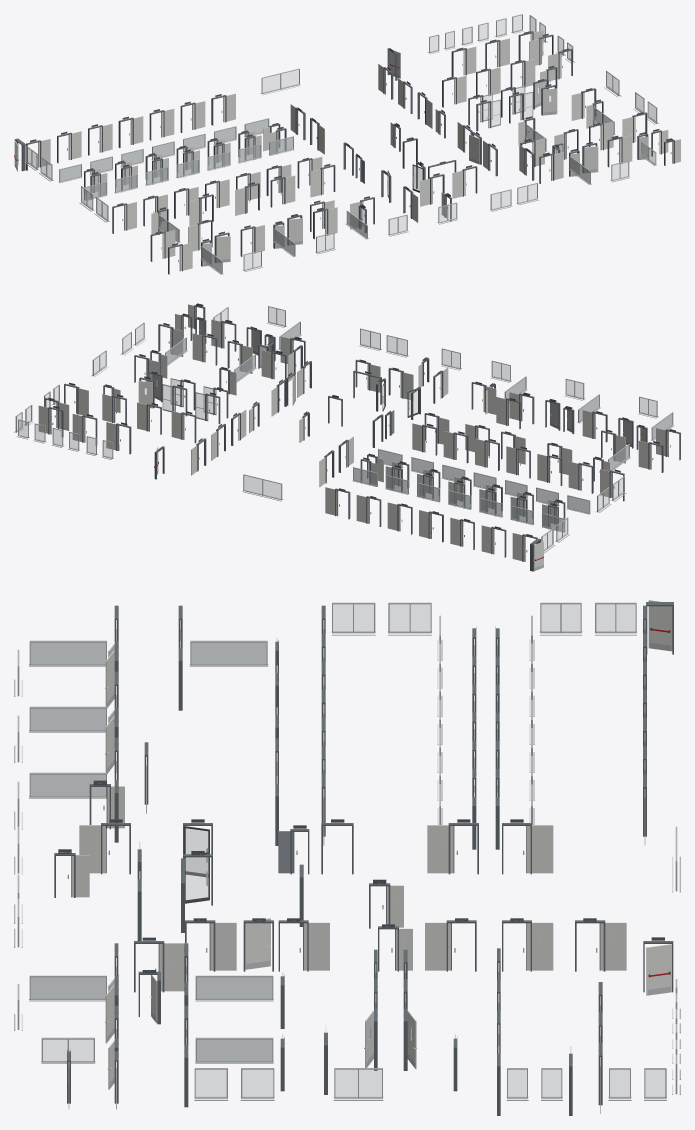
The model's file is 27_n2_puertas.glb.
3 views of the same model, one above another, from view 1: azimuth 30°, elevation 25°; view 2: azimuth 150°, elevation 25°; view 3: azimuth 270°, elevation 25° (orthographic). The views are drawn at different scales.
Visible parts, largest first — view 1: Ventana N2 · 127, Puerta N2 · 48, Puerta N2 · 74, Puerta N2 · 16, Puerta N2 · 12, Puerta N2 · 51, Puerta N2 · 49, Puerta N2 · 20, Puerta N2 · 35, Puerta N2 · 65, Puerta N2 · 82, Puerta N2 · 29 (+24 smaller); view 2: Ventana N2 · 127, Puerta N2 · 05, Puerta N2 · 32, Puerta N2 · 21, Puerta N2 · 38, Puerta N2 · 25, Puerta N2 · 77, Puerta N2 · 24, Puerta N2 · 20, Puerta N2 · 09, Puerta N2 · 69, Puerta N2 · 82 (+25 smaller); view 3: Ventana N2 · 117, Ventana N2 · 118, Ventana N2 · 113, Ventana N2 · 114, Ventana N2 · 115, Ventana N2 · 119, Ventana N2 · 116, Ventana N2 · 131, Puerta N2 · 90, Puerta N2 · 91, Puerta N2 · 85, Puerta N2 · 56 (+23 smaller).
Boxes of the visible parts, x1,y1,x2,y2 form: Ventana N2 · 127: (260, 68, 300, 95); Puerta N2 · 48: (270, 175, 295, 207); Puerta N2 · 74: (541, 85, 557, 115); Puerta N2 · 16: (149, 108, 174, 140); Puerta N2 · 12: (118, 116, 143, 147); Puerta N2 · 51: (452, 166, 477, 198); Puerta N2 · 49: (310, 164, 335, 197); Puerta N2 · 20: (180, 101, 205, 132); Puerta N2 · 35: (582, 143, 598, 172); Puerta N2 · 65: (607, 135, 632, 167); Puerta N2 · 82: (451, 46, 476, 77); Puerta N2 · 29: (214, 232, 230, 262); Ventana N2 · 127: (242, 474, 283, 501); Puerta N2 · 05: (568, 461, 593, 493); Puerta N2 · 32: (638, 440, 663, 472); Puerta N2 · 21: (443, 431, 468, 463); Puerta N2 · 38: (192, 333, 217, 365); Puerta N2 · 25: (412, 423, 437, 455); Puerta N2 · 77: (171, 411, 196, 443); Puerta N2 · 24: (325, 487, 350, 519); Puerta N2 · 20: (356, 495, 381, 526); Puerta N2 · 09: (537, 454, 562, 485); Puerta N2 · 69: (195, 392, 220, 424); Puerta N2 · 82: (106, 422, 131, 454); Ventana N2 · 117: (195, 975, 273, 1001); Ventana N2 · 118: (195, 1037, 273, 1063); Ventana N2 · 113: (189, 640, 268, 666); Ventana N2 · 114: (29, 640, 106, 666); Ventana N2 · 115: (29, 706, 106, 732); Ventana N2 · 119: (29, 975, 106, 1001); Ventana N2 · 116: (29, 772, 106, 798); Ventana N2 · 131: (333, 1068, 383, 1100); Puerta N2 · 90: (575, 920, 626, 971); Puerta N2 · 91: (502, 920, 553, 971); Puerta N2 · 85: (427, 823, 478, 874); Puerta N2 · 56: (643, 941, 673, 995).
Bounding box in the file's own units: 50.49 × 2.65 × 30.11.
Materials: 16 (1 with a texture image).
